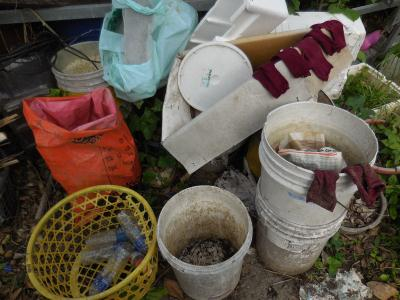bottle: (87, 249, 129, 295), (117, 208, 147, 253), (85, 226, 128, 249)
box: (160, 21, 353, 174)
bucket: (256, 99, 381, 234), (155, 182, 254, 298)
plastic_bag: (23, 85, 142, 193), (101, 1, 200, 101)
plate: (179, 42, 253, 113)
styrofoam: (191, 1, 289, 44), (333, 62, 400, 124)
